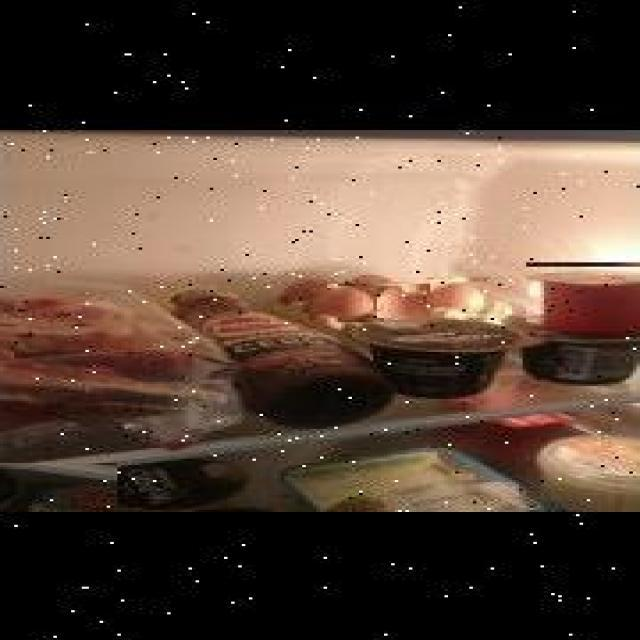egg: (309, 284, 377, 320), (427, 278, 487, 312), (374, 282, 431, 316)
yogurt: (526, 262, 640, 335), (0, 461, 117, 512)
